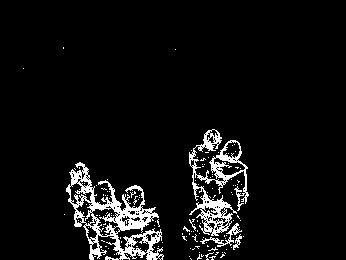person: (186, 181, 243, 259), (121, 182, 164, 259), (88, 179, 123, 259), (212, 137, 248, 207), (188, 128, 218, 203), (64, 161, 94, 226)
